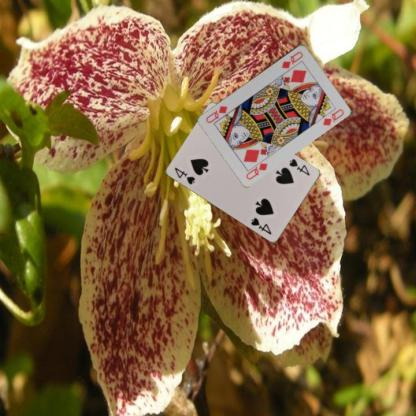4s: (171, 165, 196, 186), (286, 156, 311, 177)
Qd: (243, 155, 269, 181), (279, 48, 304, 70)
